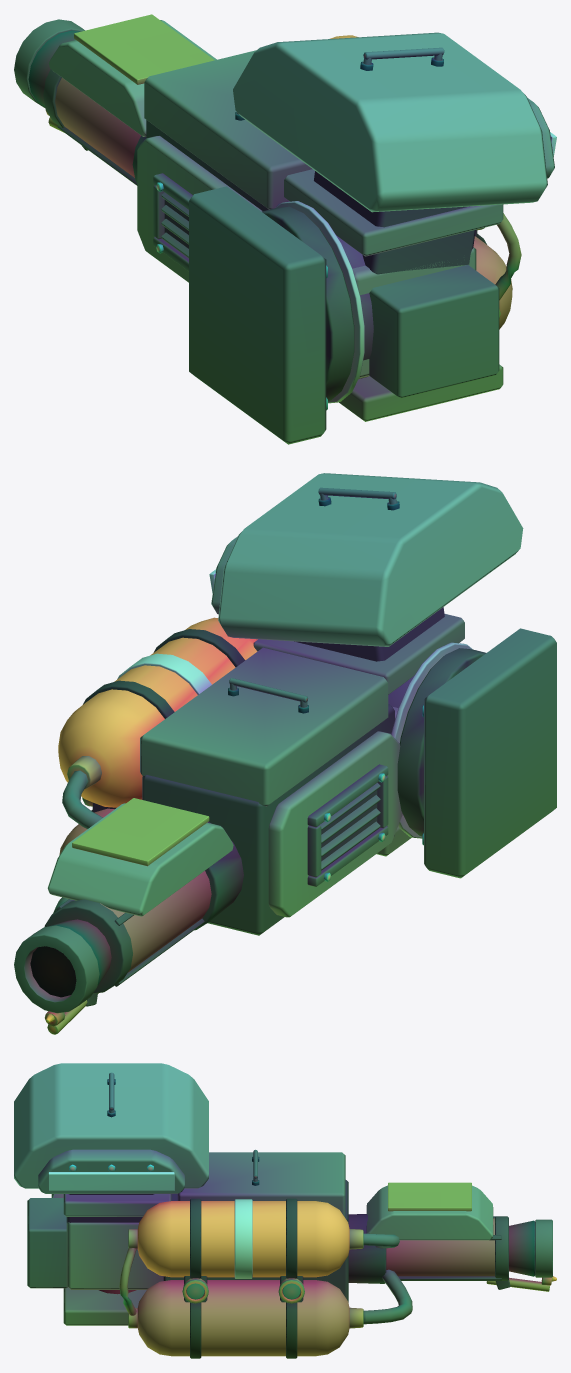
Rendered from arm_flamer.glb.
3 views of the same model, one above another, from view 1: azimuth 30°, elevation 25°; view 2: azimuth 150°, elevation 25°; view 3: azimuth 270°, elevation 25° (orthographic). The views are drawn at different scales.
Parts seen in each view (by area): view 1: Body__gunmetal, Body__armor, Body__armor_sub, Body__dark, Body__accent, Body__chrome, Body__copper; view 2: Body__armor, Body__gunmetal, Body__armor_sub, Body__dark, Body__accent, Body__rubber, Body__chrome, Body__bore, Body__hazard, Body__brass; view 3: Body__armor_sub, Body__armor, Body__accent, Body__gunmetal, Body__dark, Body__hazard, Body__rubber, Body__brass, Body__copper, Body__glass.
Part boxes in pixels (bbox=[...]): Body__gunmetal: bbox=[14, 19, 499, 444]; Body__armor: bbox=[48, 20, 547, 378]; Body__armor_sub: bbox=[144, 50, 554, 421]; Body__dark: bbox=[28, 30, 477, 400]; Body__accent: bbox=[74, 14, 358, 84]; Body__chrome: bbox=[156, 182, 364, 410]; Body__copper: bbox=[45, 110, 521, 300]; Body__armor: bbox=[47, 473, 523, 917]; Body__gunmetal: bbox=[14, 487, 556, 1013]; Body__armor_sub: bbox=[59, 536, 464, 856]; Body__dark: bbox=[44, 497, 485, 1006]; Body__accent: bbox=[58, 617, 257, 866]; Body__rubber: bbox=[83, 629, 245, 811]; Body__chrome: bbox=[324, 642, 472, 881]; Body__bore: bbox=[30, 946, 76, 997]; Body__hazard: bbox=[117, 569, 215, 694]; Body__brass: bbox=[47, 756, 101, 1034]; Body__armor_sub: bbox=[38, 1149, 349, 1356]; Body__armor: bbox=[14, 1063, 493, 1289]; Body__accent: bbox=[137, 1182, 471, 1277]; Body__gunmetal: bbox=[27, 1072, 552, 1324]; Body__dark: bbox=[53, 1079, 535, 1302]; Body__hazard: bbox=[48, 1172, 252, 1278]; Body__rubber: bbox=[190, 1198, 297, 1358]; Body__brass: bbox=[128, 1229, 549, 1328]; Body__copper: bbox=[119, 1248, 552, 1315]; Body__glass: bbox=[186, 1283, 300, 1299].
Bounding box in the file's own units: 0.796 × 0.8798 × 1.81.
